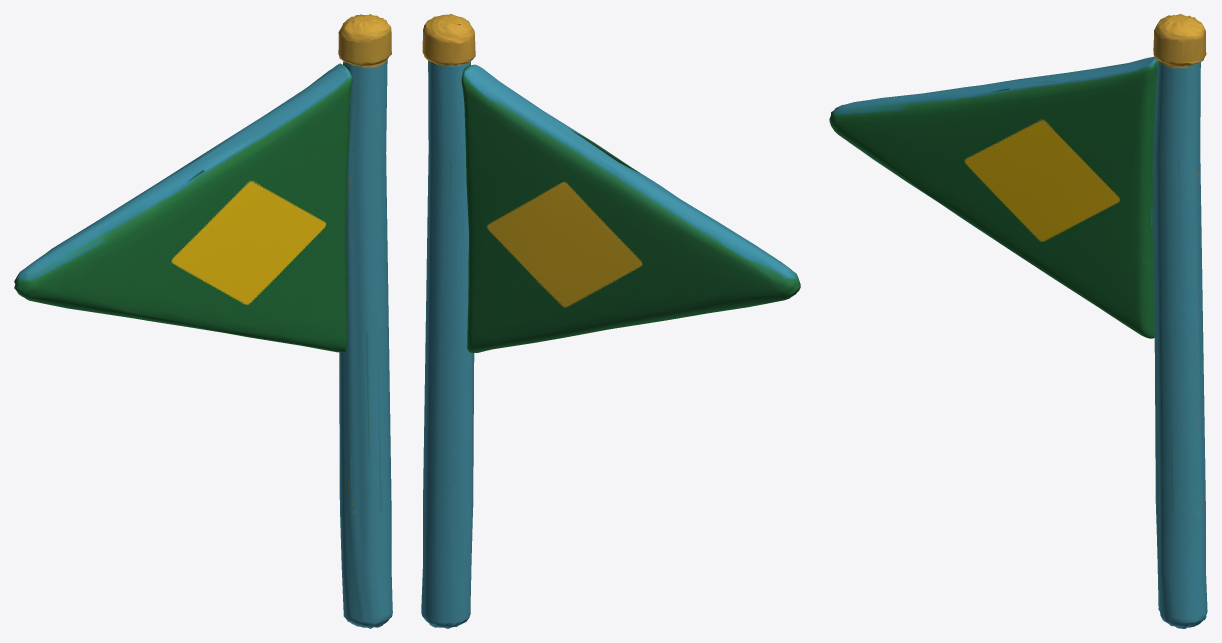
File: signage_banner.glb
3 renders of one model, left to right at view 1: azimuth 30°, elevation 25°; view 2: azimuth 150°, elevation 25°; view 3: azimuth 330°, elevation 25°, orthographic.
Size of the model in its own units: 0.6484 by 1 by 0.0754.
1 material, 1 textured.
